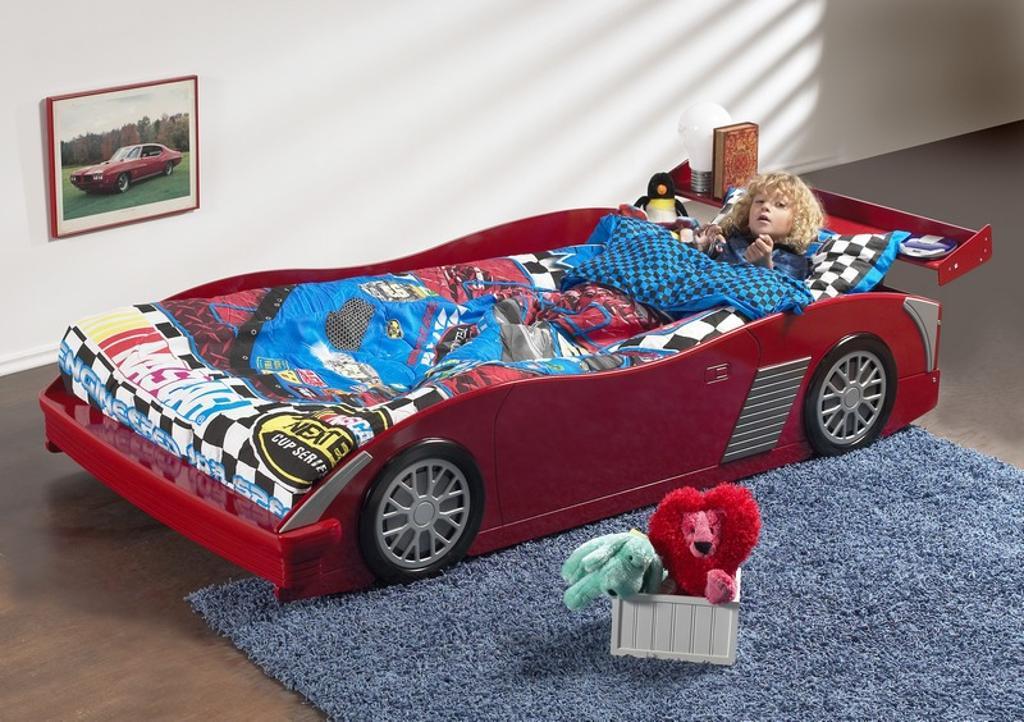face: (750, 186, 793, 233)
